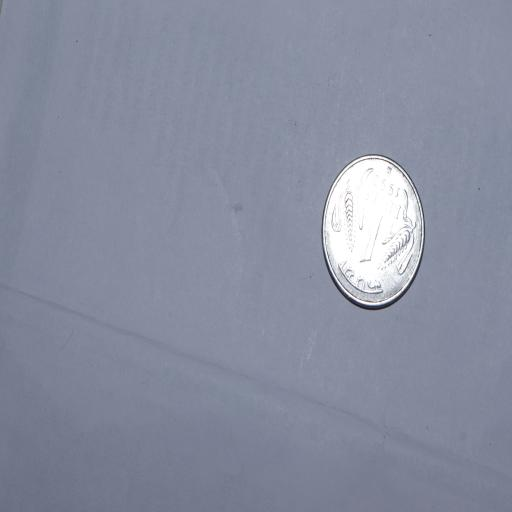rupee1: (315, 152, 426, 314)
